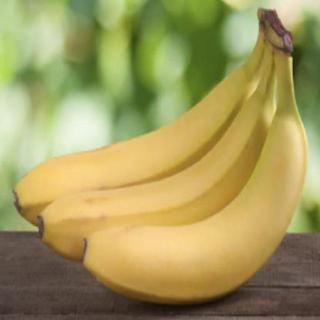banana: (82, 44, 310, 308), (12, 28, 270, 258), (37, 40, 282, 274)
